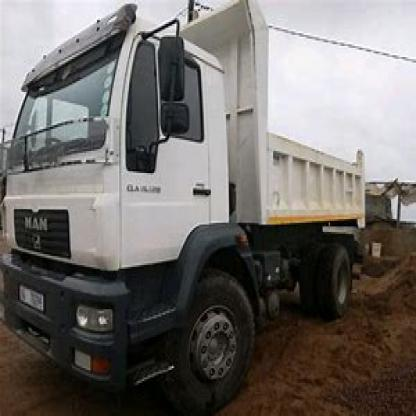dump_truck: (9, 6, 404, 414)
